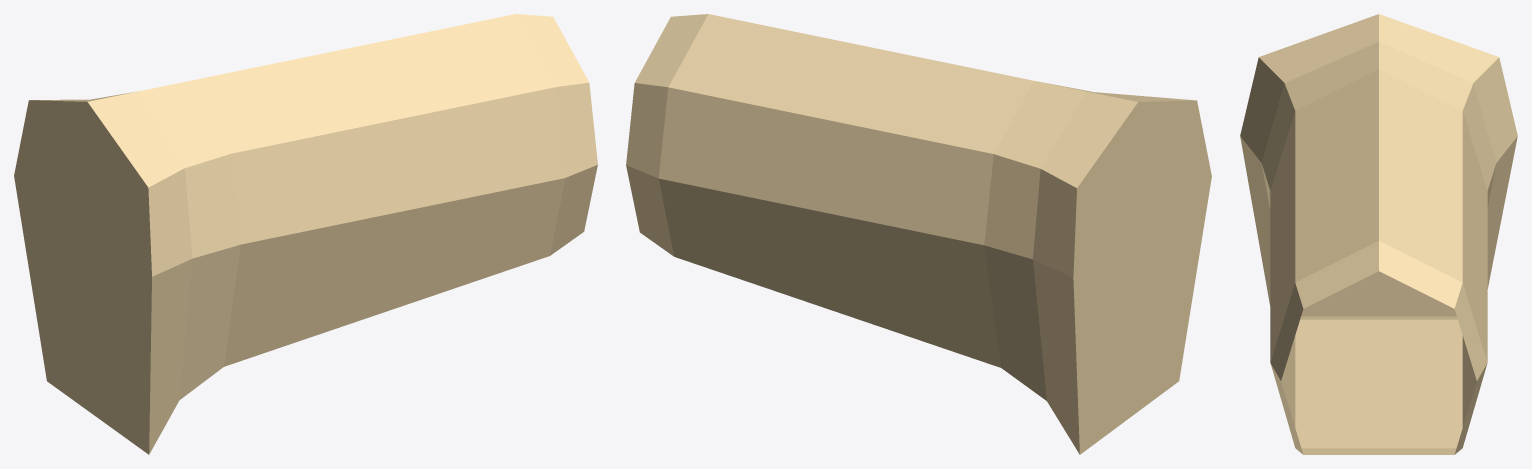
The model's file is LeftArmShoulder.fbx.
The picture shows the model from 3 angles, left to right: view 1: azimuth 30°, elevation 25°; view 2: azimuth 150°, elevation 25°; view 3: azimuth 270°, elevation 25°; orthographic projection.
Parts seen in each view (by area): view 1: LeftArmShoulder; view 2: LeftArmShoulder; view 3: LeftArmShoulder.
Boxes of the visible parts, x1,y1,x2,y2 form: LeftArmShoulder: [14, 14, 597, 454]; LeftArmShoulder: [626, 14, 1211, 454]; LeftArmShoulder: [1240, 14, 1517, 454].
Size of the model in its own units: 99.89 by 64.59 by 50.81.
